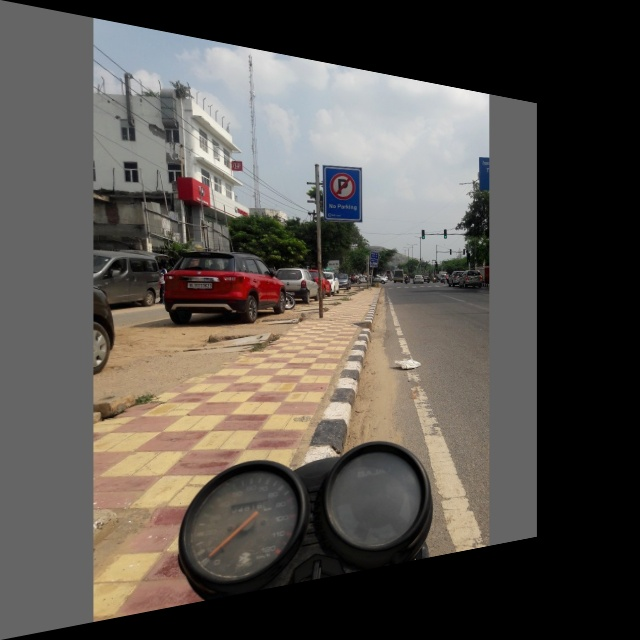No_Parking: (324, 164, 362, 205)
